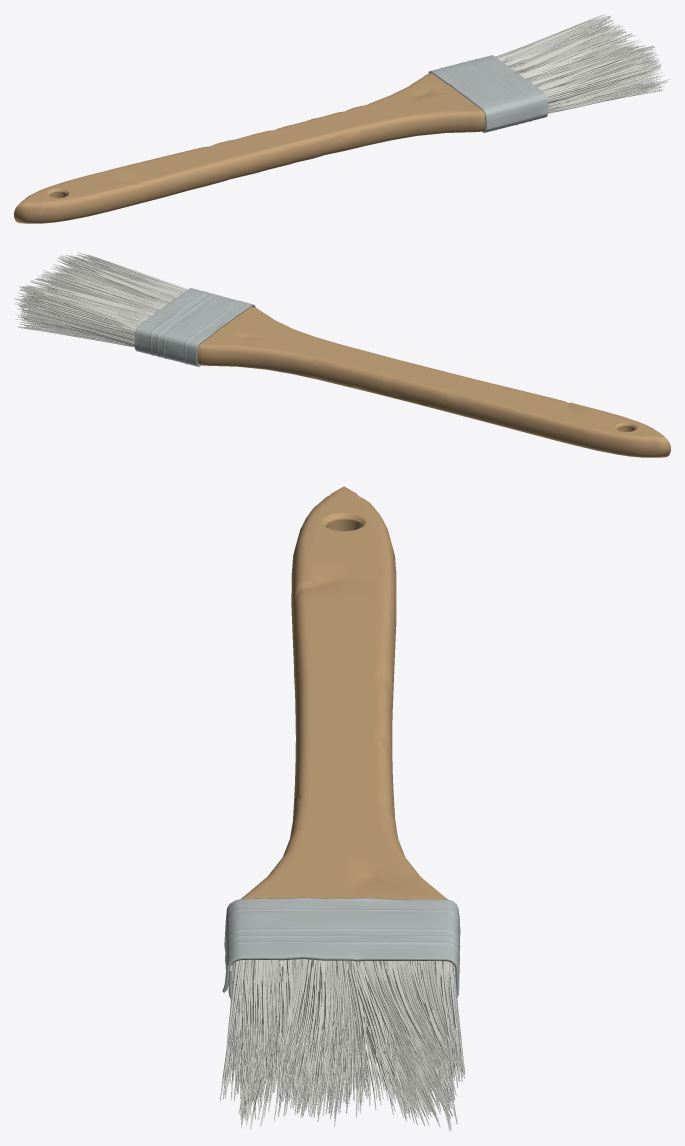
Rendered from paint_supplies_brush_a03.glb.
3 views of the same model, one above another, from view 1: azimuth 30°, elevation 25°; view 2: azimuth 150°, elevation 25°; view 3: azimuth 270°, elevation 25° (orthographic). The views are drawn at different scales.
Bounding box in the file's own units: 0.2451 × 0.0155 × 0.0415.
